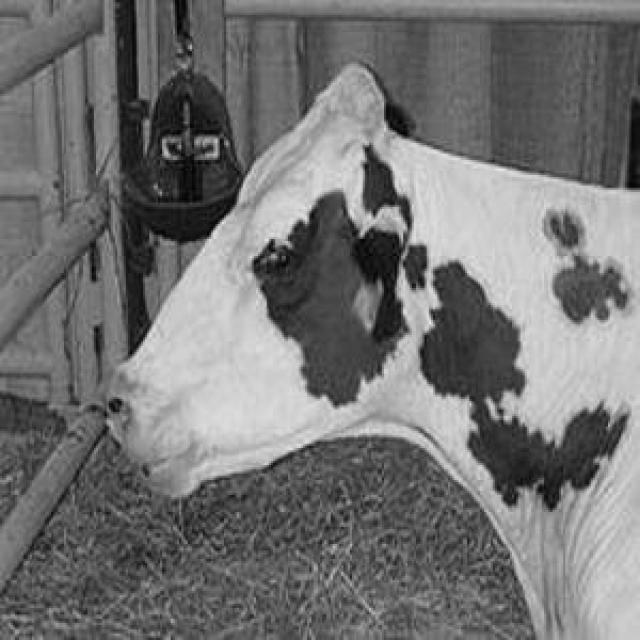cow: (109, 68, 640, 640)
